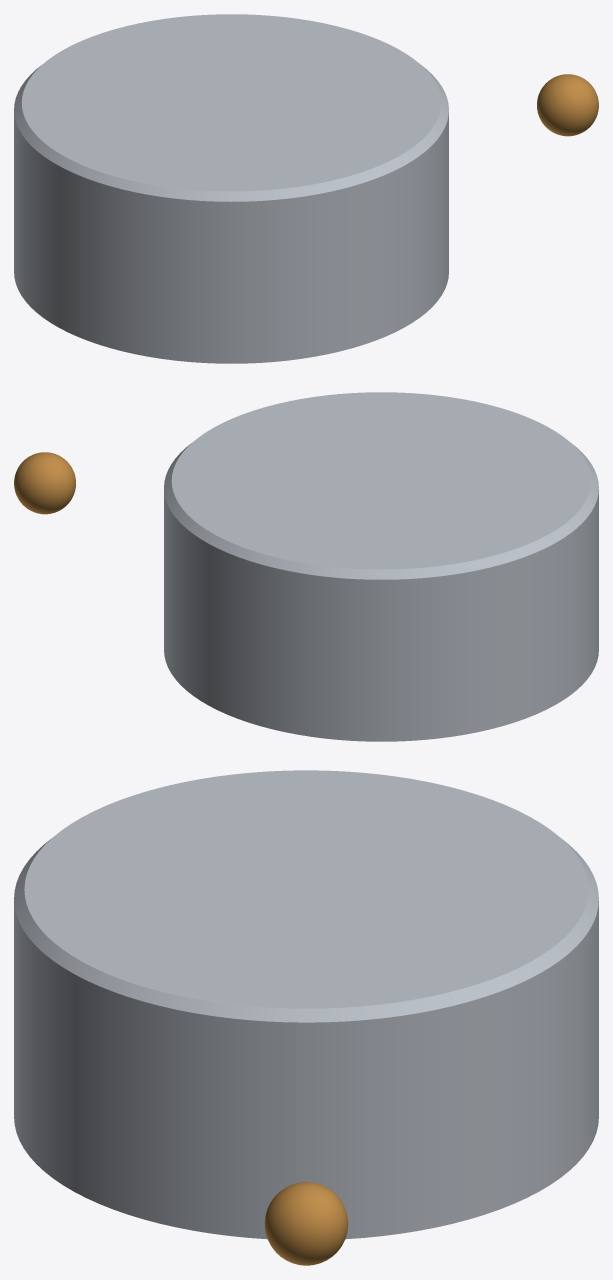
Rendered from solid-after.glb.
The picture shows the model from 3 angles, top to bottom: view 1: azimuth 30°, elevation 25°; view 2: azimuth 150°, elevation 25°; view 3: azimuth 270°, elevation 25°; orthographic projection. The views are drawn at different scales.
Visible parts, largest first — view 1: bushing, preserved; view 2: bushing, preserved; view 3: bushing, preserved.
Boxes of the visible parts, bbox=[...] form: bushing: bbox=[14, 14, 448, 363]; preserved: bbox=[537, 74, 598, 136]; bushing: bbox=[164, 392, 598, 741]; preserved: bbox=[14, 452, 75, 514]; bushing: bbox=[14, 770, 598, 1239]; preserved: bbox=[264, 1182, 348, 1265].
Size of the model in its own units: 0.041 by 0.012 by 0.028.
